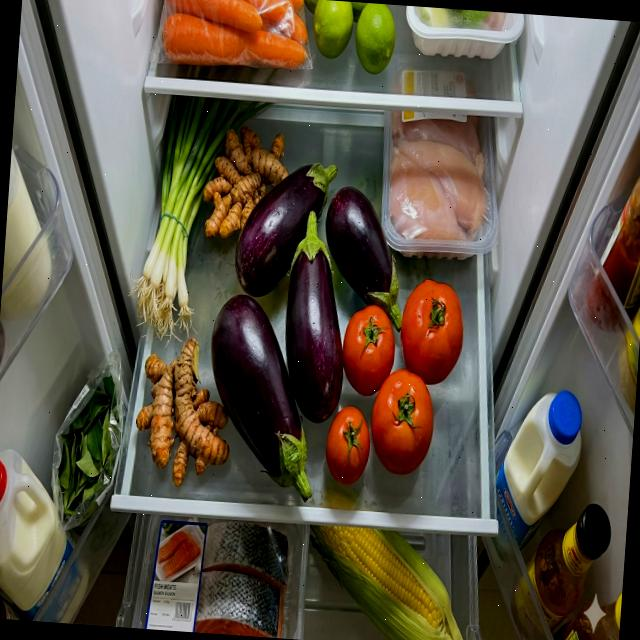carrot: (159, 0, 310, 73)
chicken: (382, 109, 493, 245)
corn: (302, 523, 473, 640)
curry_leaves: (52, 368, 134, 541)
eggplant: (200, 154, 358, 505)
fish: (152, 515, 292, 638)
lime: (298, 0, 396, 74)
spring_onion: (124, 92, 276, 353)
tomato: (333, 272, 468, 478), (323, 404, 373, 486)
turmeric: (132, 333, 238, 490), (200, 122, 293, 245)
